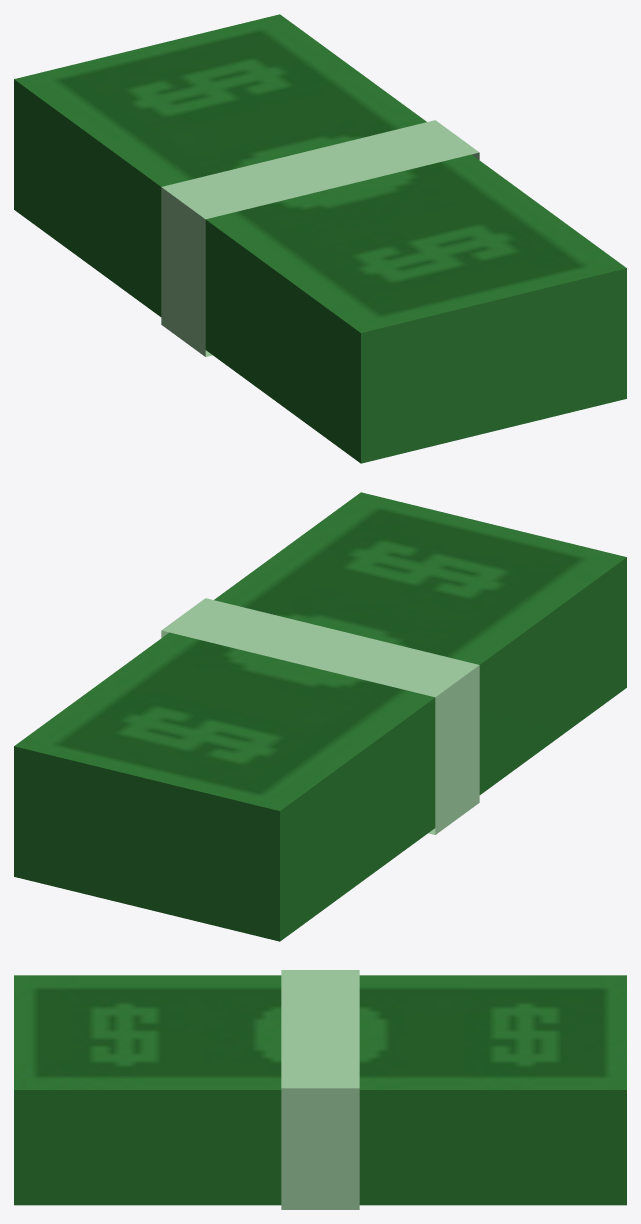
File: Cuc_tien.fbx
3 views of the same model, one above another, from view 1: azimuth 30°, elevation 25°; view 2: azimuth 150°, elevation 25°; view 3: azimuth 270°, elevation 25° (orthographic). The views are drawn at different scales.
Visible parts, largest first — view 1: cuc_tien; view 2: cuc_tien; view 3: cuc_tien.
Part boxes in pixels (left/top/right/bottom): cuc_tien: left=14, top=14, right=626, bottom=463; cuc_tien: left=14, top=492, right=626, bottom=941; cuc_tien: left=14, top=970, right=626, bottom=1209.
Bounding box in the file's own units: 35.83 × 17.2 × 78.55.
